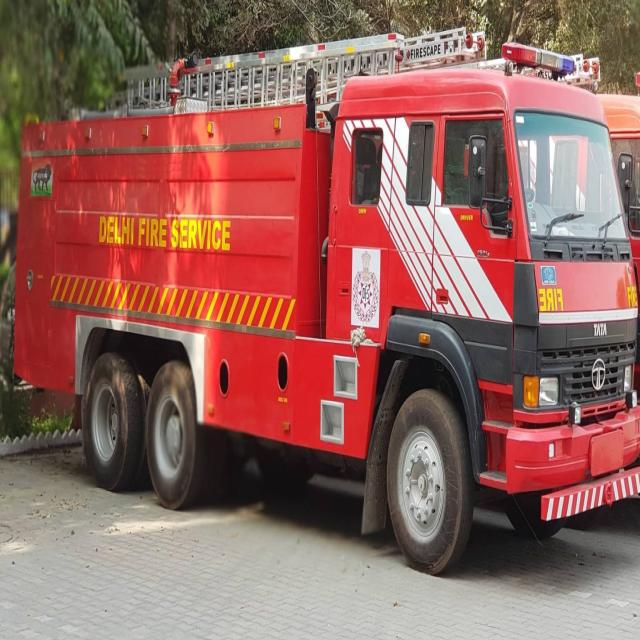emergency: (15, 30, 640, 575)
